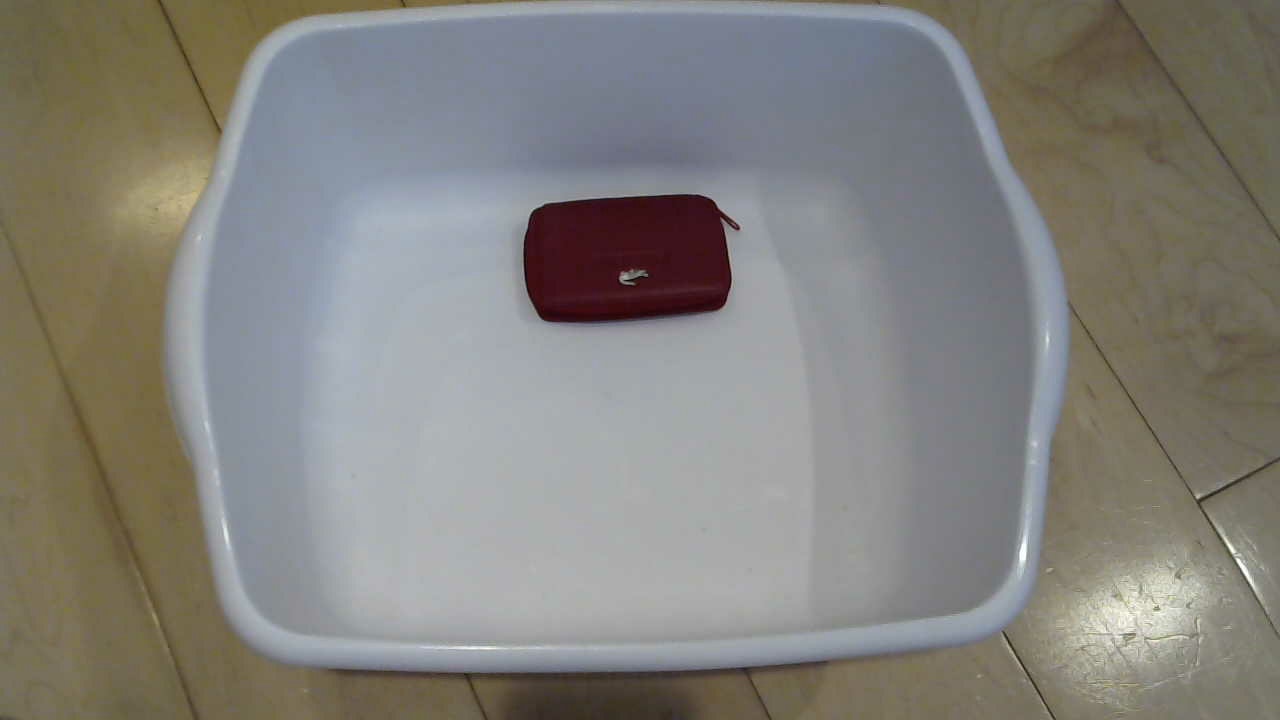wallet: (511, 172, 756, 341)
